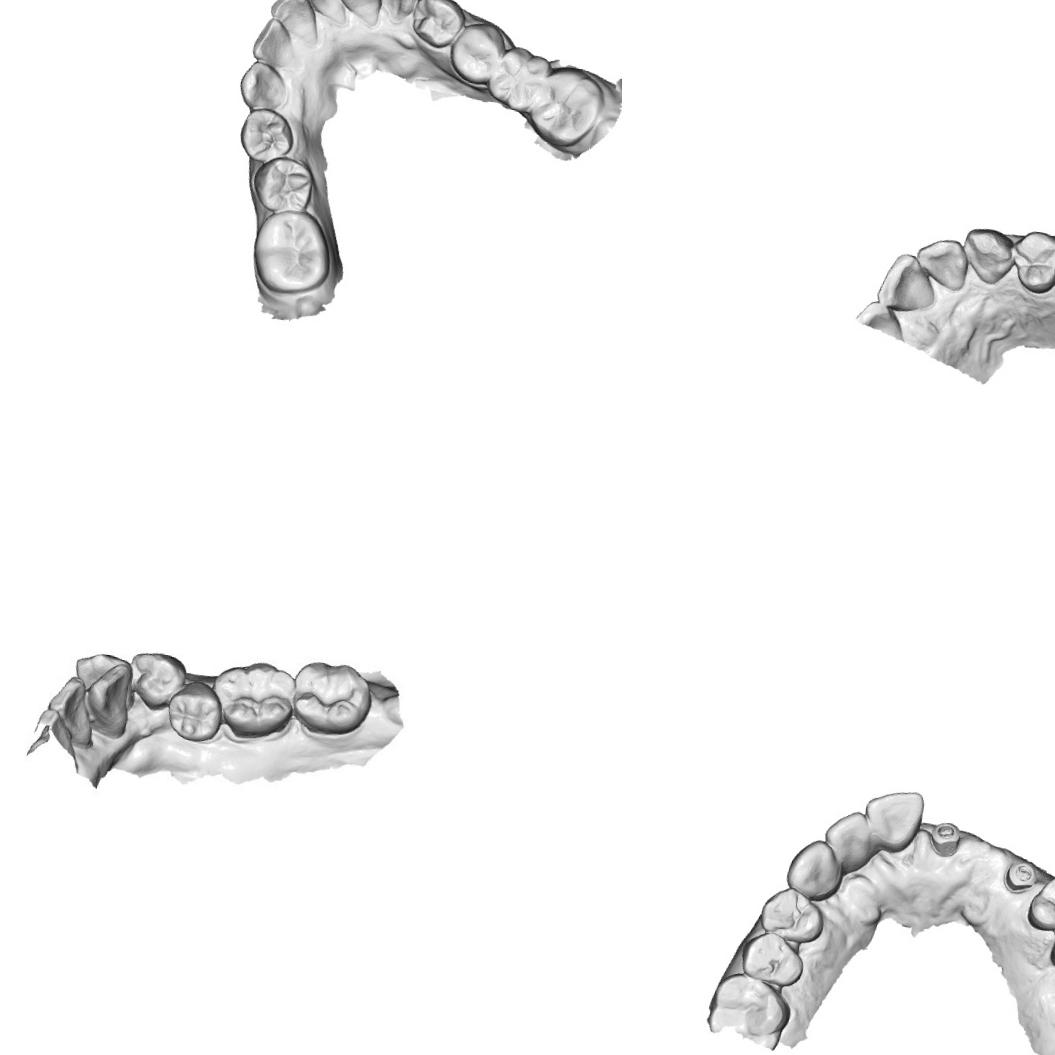canine: (782, 834, 847, 905), (957, 224, 1017, 290), (236, 59, 292, 116), (371, 0, 424, 28)
implant: (926, 818, 966, 861), (1001, 856, 1040, 898)
incisor: (858, 782, 926, 852), (874, 248, 941, 313), (88, 662, 142, 742), (911, 232, 972, 294), (819, 805, 875, 871), (50, 682, 104, 750), (250, 14, 300, 68), (852, 297, 913, 341), (265, 0, 321, 43), (329, 0, 386, 28), (297, 0, 352, 25)
molar: (246, 204, 336, 299), (522, 60, 610, 154), (209, 657, 300, 740), (702, 968, 795, 1046), (290, 657, 373, 736), (484, 42, 554, 116)
premolar: (247, 151, 318, 220), (444, 16, 510, 89), (737, 928, 810, 991), (756, 883, 828, 946), (236, 104, 299, 168), (1005, 226, 1055, 298), (168, 679, 222, 743), (408, 0, 468, 51), (131, 650, 185, 706), (1024, 870, 1055, 937)
